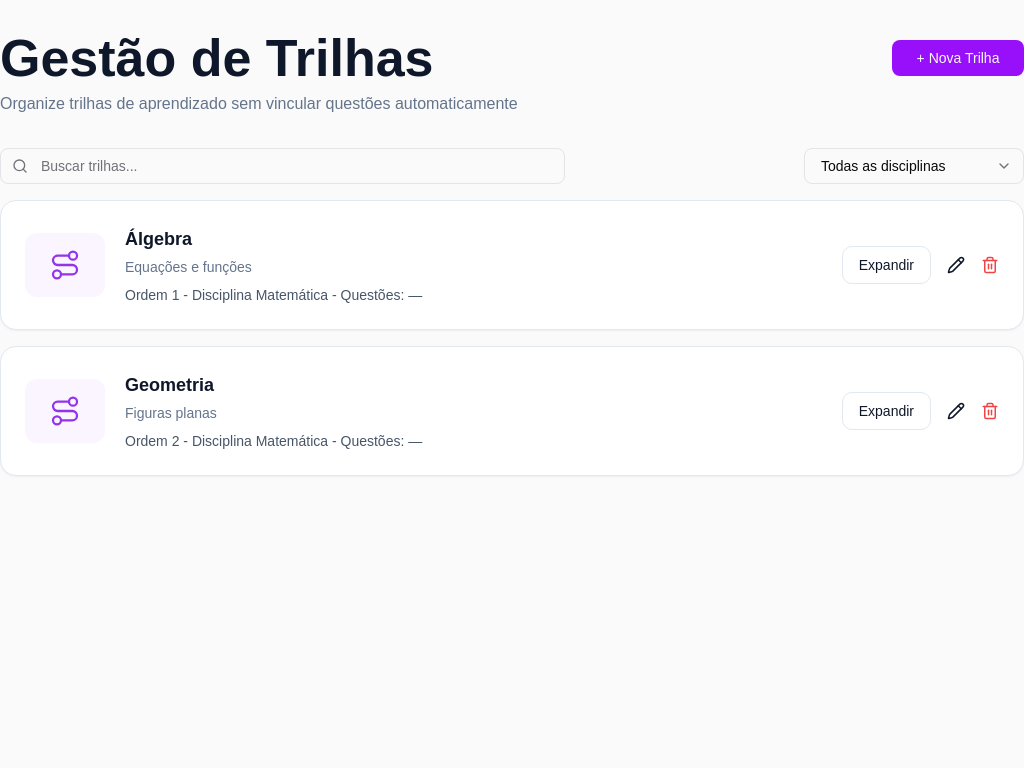
Test: TrailsPage › abre edição com modal preenchido e salva payload editado
Check: the heading "Álgebra" is shown, box [125,229,192,249]
Click the button named "Editar trilha" in the row of "Equações e funções": point(956, 265) [947,256,965,274]
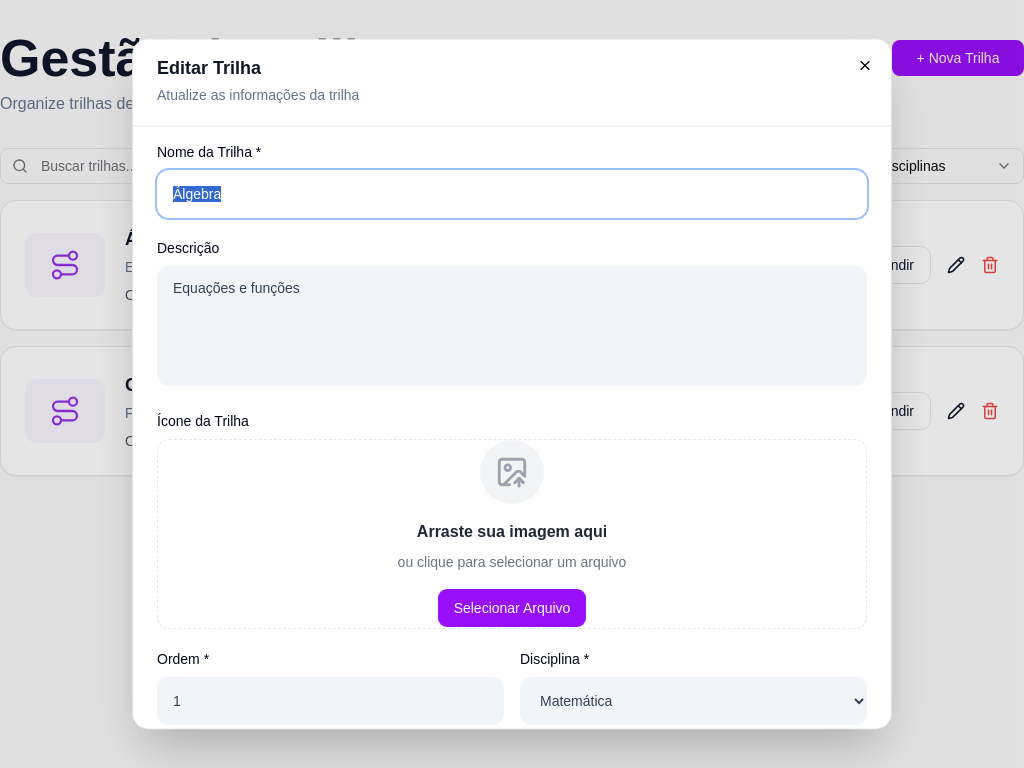
Check: the heading "Editar Trilha" is shown, box [157,58,261,78]
Check: the field showing "Álgebra" below "Nome da Trilha *" is shown
Check: the text box showing "Equações e funções" is shown, box [157,266,867,386]
In the field showing "Álgebra" below "Nome da Trilha *": point(512, 194) [157,170,867,218], type "Álgebra Atualizada"
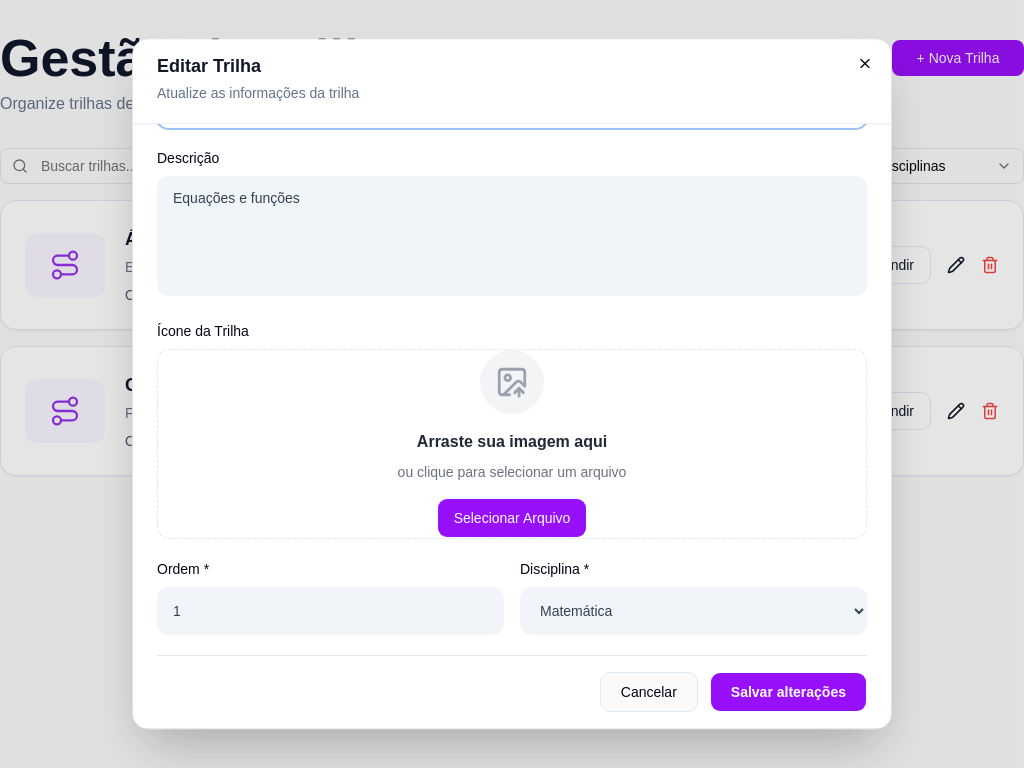
Click the button "Salvar alterações": point(788, 692) [710,672,867,712]
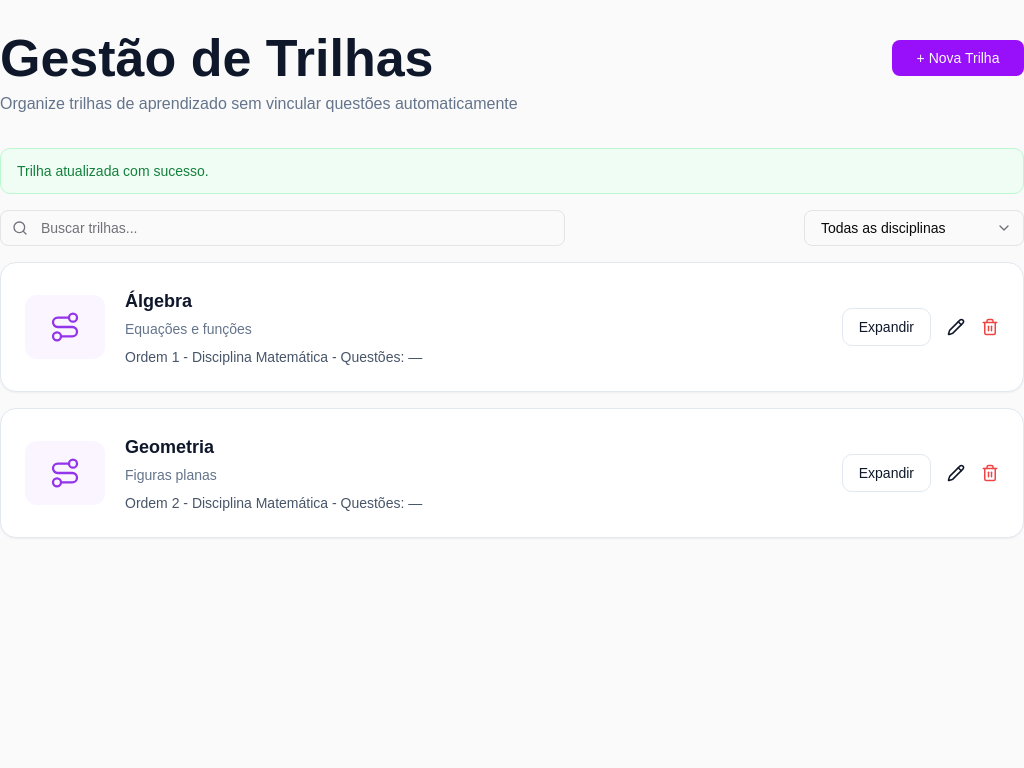
Check: the text "Trilha atualizada com sucesso." is shown, box [17,163,209,179]
